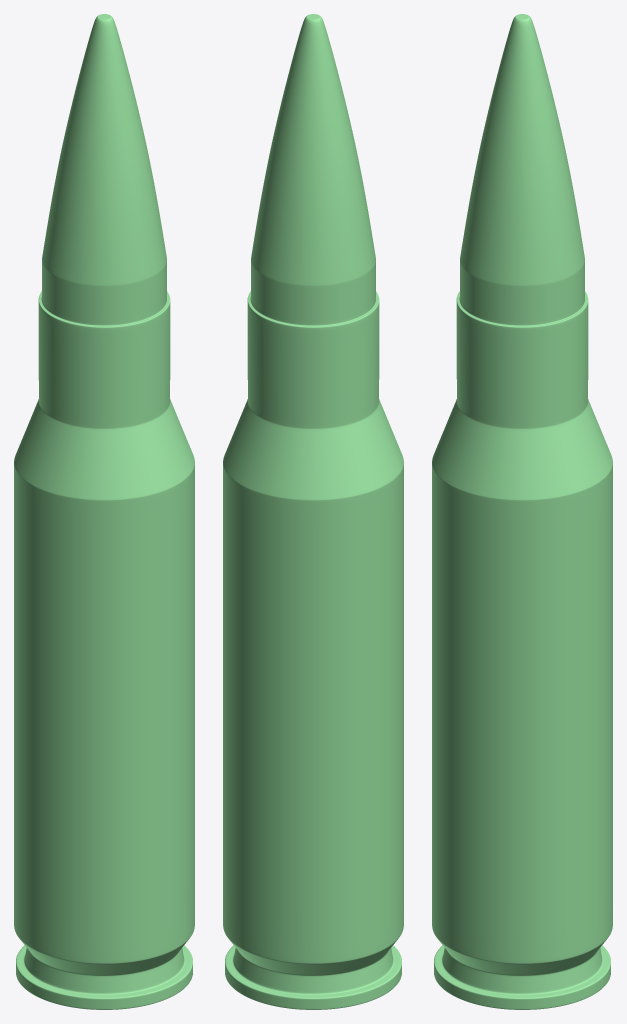
The picture shows the model from 3 angles, left to right: view 1: azimuth 30°, elevation 25°; view 2: azimuth 150°, elevation 25°; view 3: azimuth 270°, elevation 25°; orthographic projection.
Parts seen in each view (by area): view 1: defaultMaterial; view 2: defaultMaterial; view 3: defaultMaterial.
Part boxes in pixels (bbox=[...]): defaultMaterial: bbox=[14, 14, 194, 1009]; defaultMaterial: bbox=[223, 14, 403, 1009]; defaultMaterial: bbox=[432, 14, 612, 1009].
Size of the model in its own units: 0.1715 by 1 by 0.1715.
